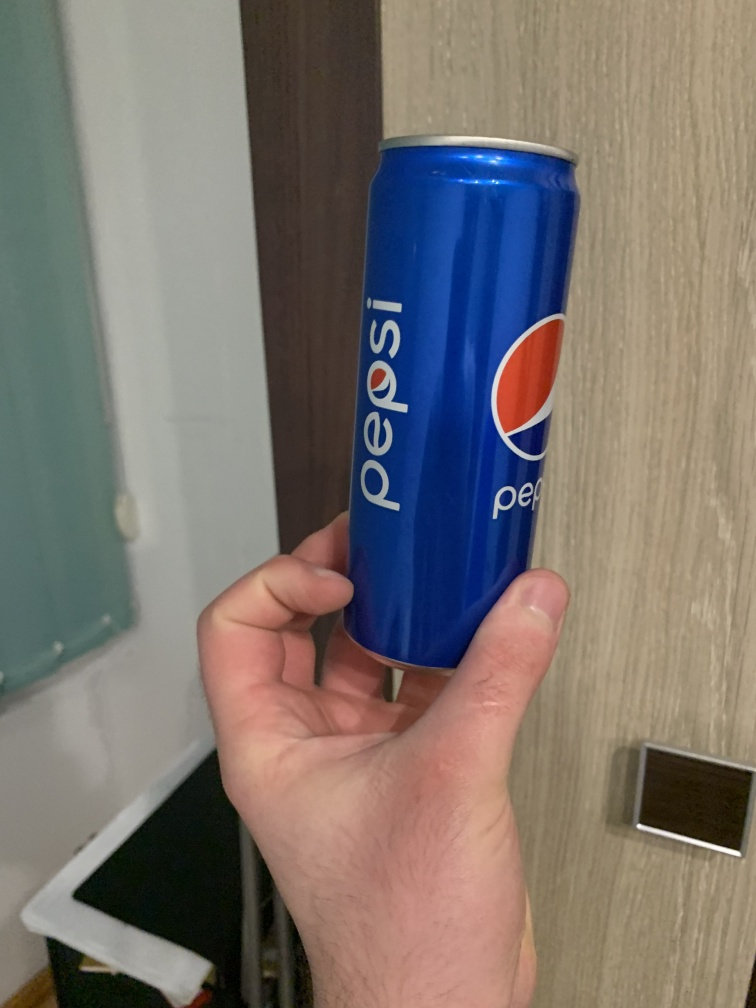pepsi: (335, 126, 583, 684)
